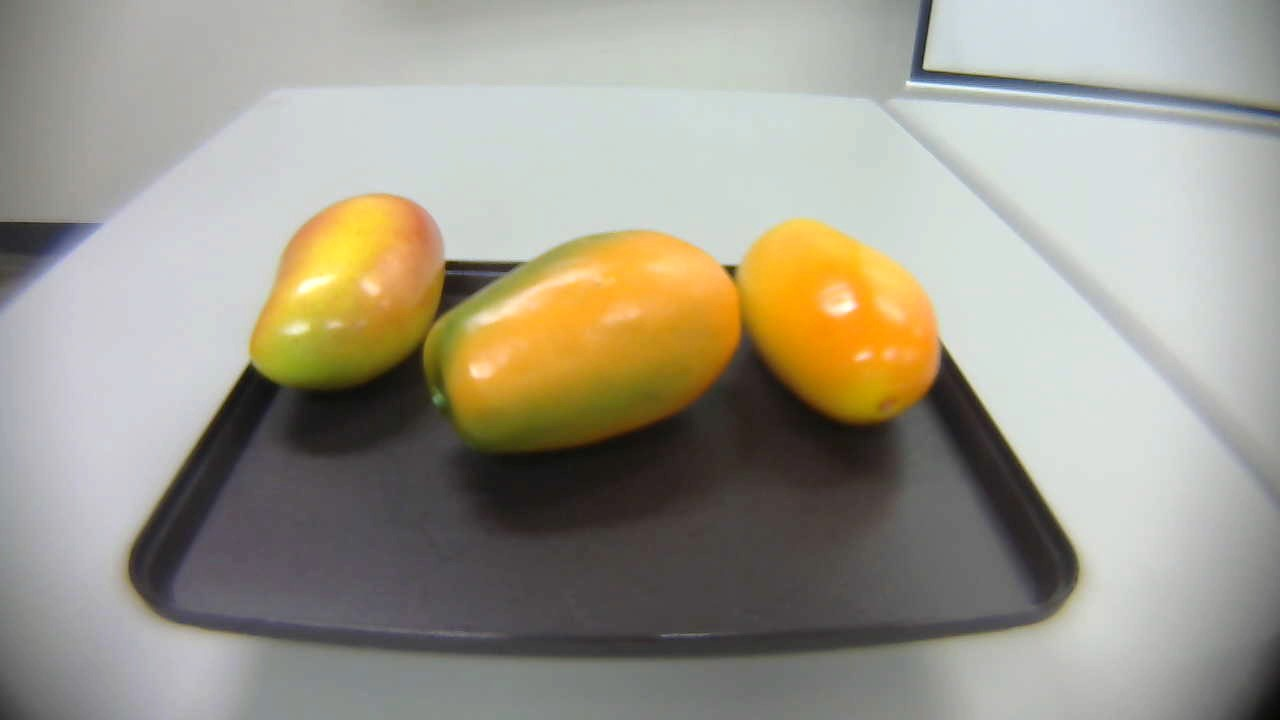papya: (407, 227, 746, 469)
red mango: (238, 193, 452, 408)
yellow mango: (739, 216, 943, 435)
